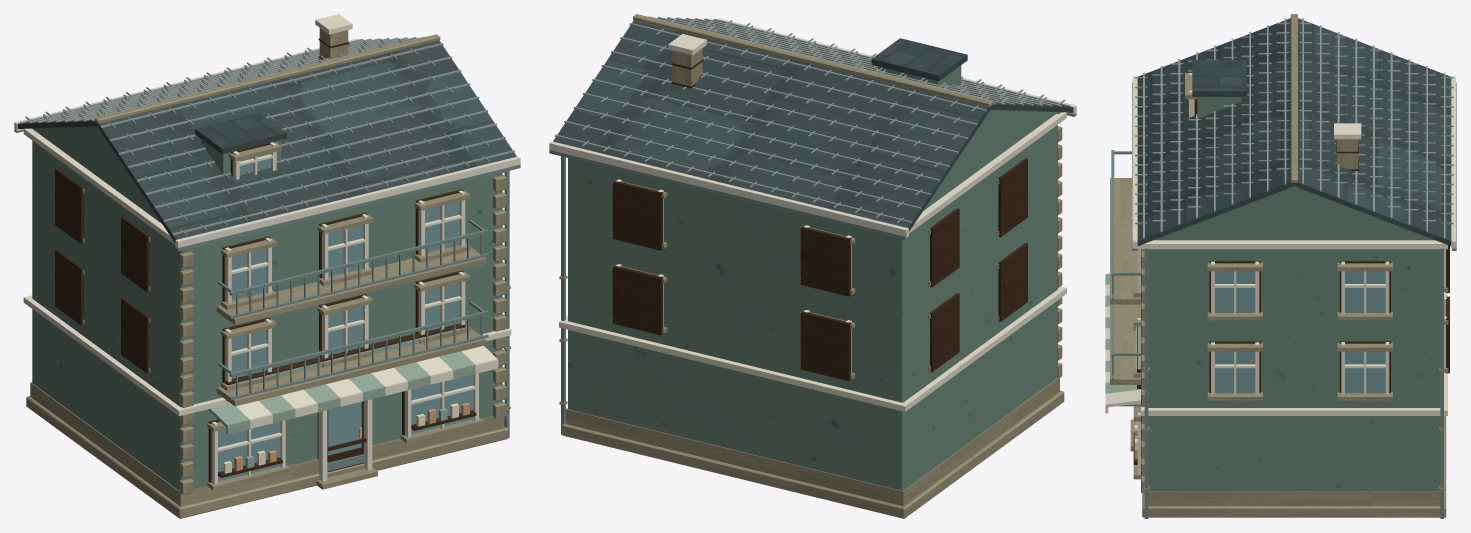
The model's file is north_books.glb.
The picture shows the model from 3 angles, left to right: view 1: azimuth 30°, elevation 25°; view 2: azimuth 150°, elevation 25°; view 3: azimuth 270°, elevation 25°; orthographic projection. The views are drawn at different scales.
Parts seen in each view (by area): view 1: north_books / north_books painted plaster, north_books / slate roof, north_books / limestone, north_books / ivory joinery, north_books / slate tile edge, north_books / blue grey opaque glass, north_books / oiled walnut, north_books / aged dark bronze, north_books / sage canopy; view 2: north_books / north_books painted plaster, north_books / slate roof, north_books / limestone, north_books / oiled walnut, north_books / slate tile edge, north_books / ivory joinery, north_books / aged dark bronze; view 3: north_books / north_books painted plaster, north_books / slate roof, north_books / limestone, north_books / slate tile edge, north_books / ivory joinery, north_books / blue grey opaque glass, north_books / aged dark bronze, north_books / oiled walnut, north_books / sage canopy.
Part boxes in pixels (x1=…): north_books / north_books painted plaster: x1=32, y1=126, x2=502, y2=490; north_books / slate roof: x1=17, y1=40, x2=516, y2=242; north_books / limestone: x1=26, y1=28, x2=510, y2=518; north_books / ivory joinery: x1=14, y1=14, x2=520, y2=484; north_books / slate tile edge: x1=20, y1=36, x2=514, y2=235; north_books / blue grey opaque glass: x1=218, y1=153, x2=473, y2=481; north_books / oiled walnut: x1=55, y1=38, x2=476, y2=482; north_books / aged dark bronze: x1=14, y1=129, x2=520, y2=471; north_books / sage canopy: x1=208, y1=328, x2=475, y2=467; north_books / north_books painted plaster: x1=568, y1=65, x2=1057, y2=490; north_books / slate roof: x1=553, y1=20, x2=1072, y2=231; north_books / limestone: x1=559, y1=14, x2=1064, y2=518; north_books / oiled walnut: x1=612, y1=59, x2=1027, y2=381; north_books / slate tile edge: x1=555, y1=16, x2=1070, y2=223; north_books / ivory joinery: x1=549, y1=18, x2=1076, y2=411; north_books / aged dark bronze: x1=549, y1=113, x2=1076, y2=434; north_books / north_books painted plaster: x1=1148, y1=97, x2=1440, y2=491; north_books / slate roof: x1=1137, y1=18, x2=1451, y2=245; north_books / limestone: x1=1110, y1=14, x2=1448, y2=517; north_books / slate tile edge: x1=1135, y1=18, x2=1453, y2=238; north_books / ivory joinery: x1=1105, y1=73, x2=1455, y2=473; north_books / blue grey opaque glass: x1=1215, y1=271, x2=1385, y2=393; north_books / aged dark bronze: x1=1111, y1=82, x2=1456, y2=518; north_books / oiled walnut: x1=1133, y1=97, x2=1449, y2=464; north_books / sage canopy: x1=1105, y1=273, x2=1140, y2=438.
Bounding box in the file's own units: 11.93 × 11.92 × 10.69.
12 materials, 4 textured.
